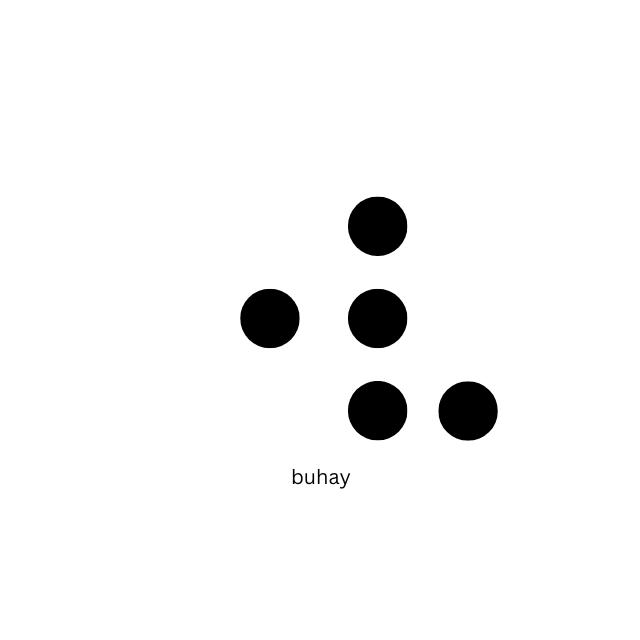dot_5: (150, 195, 301, 443)
two_cell_alphabet_buhay: (347, 195, 499, 443)
